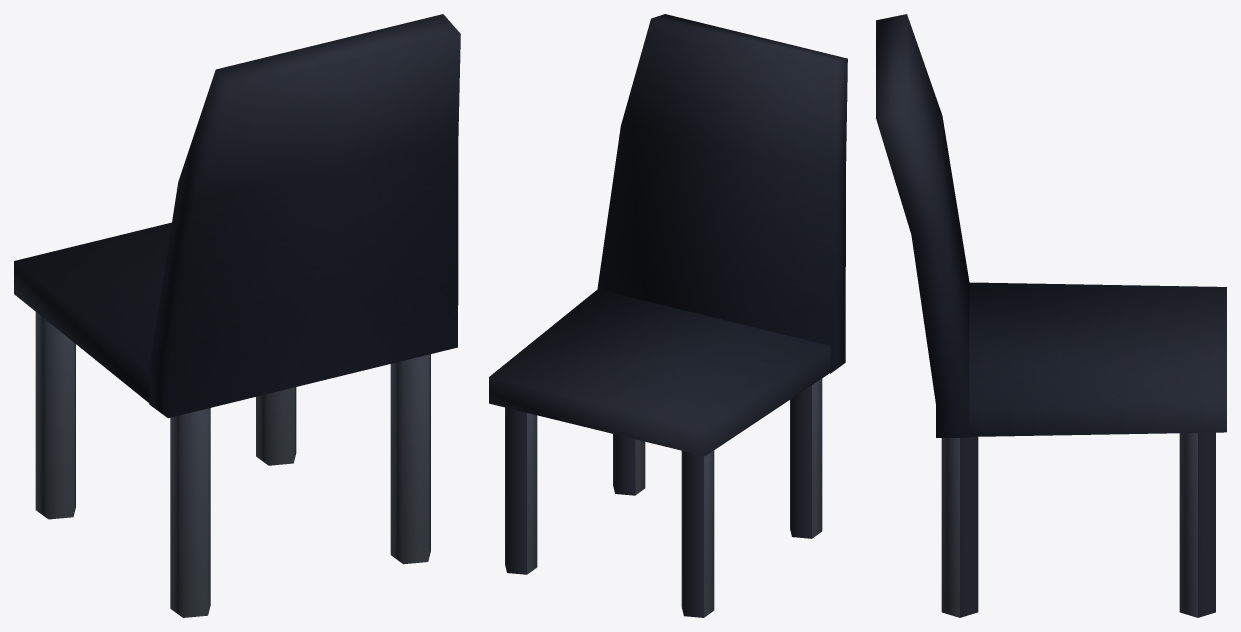
The model's file is NormalChair.FBX.
The picture shows the model from 3 angles, left to right: view 1: azimuth 30°, elevation 25°; view 2: azimuth 150°, elevation 25°; view 3: azimuth 270°, elevation 25°; orthographic projection. The views are drawn at different scales.
Visible parts, largest first — view 1: Box330; view 2: Box330; view 3: Box330.
Part boxes in pixels (<box>): Box330: <box>14,14,460,617</box>; Box330: <box>489,14,847,617</box>; Box330: <box>876,14,1226,617</box>.
Bounding box in the file's own units: 21.26 × 39.45 × 25.19.
